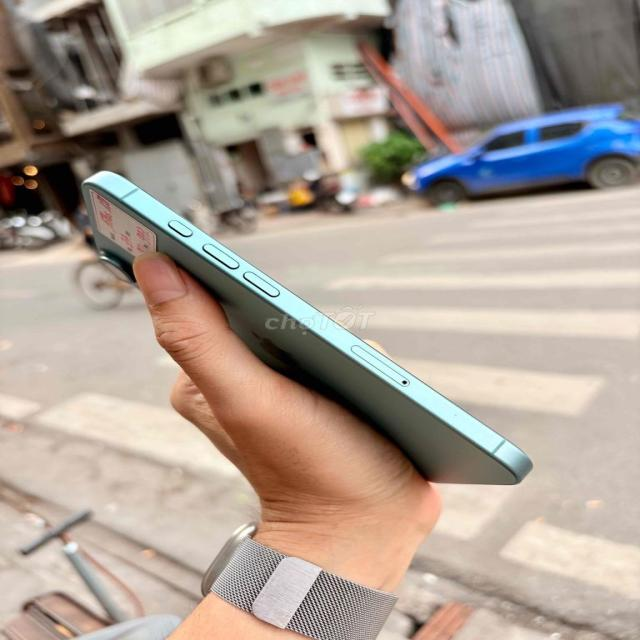gen_16: (82, 171, 531, 484)
scratch: (450, 396, 475, 438)
